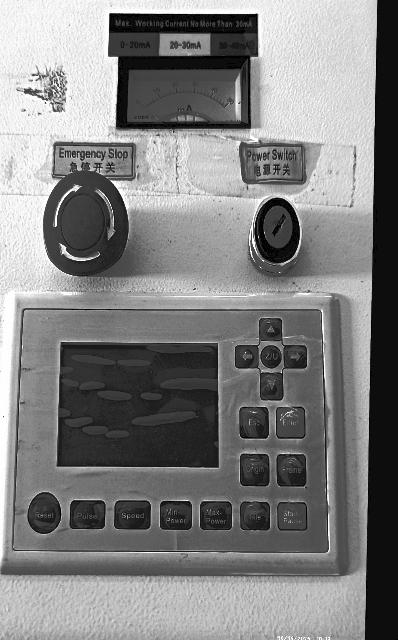Amp_Meter: (127, 62, 248, 124)
Display: (56, 342, 218, 467)
Down_button: (260, 372, 283, 400)
Emergency_Stop: (43, 171, 128, 276)
Enter_button: (276, 407, 305, 438)
Esc_button: (240, 407, 268, 438)
File_button: (240, 502, 270, 530)
Frame_button: (277, 455, 306, 486)
Left_button: (235, 346, 258, 368)
Max-Power_button: (200, 501, 232, 530)
Min-Power_button: (160, 501, 192, 529)
Origin_button: (240, 454, 269, 485)
Power_switch: (249, 197, 302, 276)
Pulse_button: (70, 500, 105, 529)
Reset_button: (28, 493, 61, 534)
Right_button: (284, 345, 307, 368)
Speed_button: (114, 501, 150, 529)
Start-Pause_button: (278, 503, 307, 530)
Up_button: (259, 318, 282, 341)
Z_U_button: (261, 345, 281, 368)
